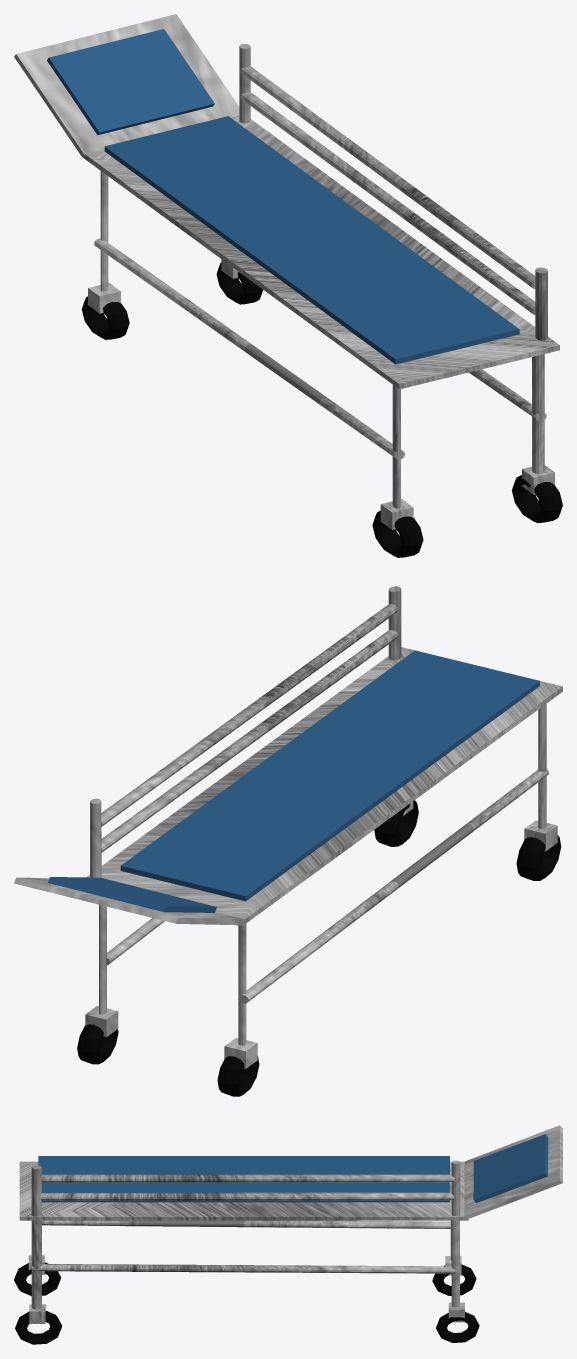
The model's file is barella_colorata.fbx.
3 renders of one model, top to bottom at view 1: azimuth 30°, elevation 25°; view 2: azimuth 150°, elevation 25°; view 3: azimuth 270°, elevation 25°, orthographic. The views are drawn at different scales.
Parts seen in each view (by area): view 1: Cube_8, Cube_6, Cube_9, Cube_7, Cylinder_9, Cylinder_8, Cylinder_5, Torus_2, Torus_3, Cylinder_2, Torus, Cylinder_3 (+5 smaller); view 2: Cube_8, Cube_6, Cylinder_8, Cylinder_9, Cylinder_5, Cube_9, Cube_7, Torus_3, Torus, Torus_1, Torus_2, Cylinder_3 (+7 smaller); view 3: Cube_8, Cube_6, Cylinder_9, Cylinder_8, Cylinder_4, Cube_9, Cylinder_5, Cube_7, Cylinder_2, Torus_2, Torus_1, Cylinder_1 (+5 smaller).
Part boxes in pixels (x1,y1,x2,y2): Cube_8: (104,116,519,364); Cube_6: (83,116,559,389); Cube_9: (47,29,214,135); Cube_7: (14,14,239,157); Cylinder_9: (240,66,535,288); Cylinder_8: (240,92,535,314); Cylinder_5: (94,238,405,459); Torus_2: (512,475,562,523); Torus_3: (372,510,423,557); Cylinder_2: (532,354,544,474); Torus: (81,296,129,339); Cylinder_3: (392,385,400,508); Cube_8: (120,650,539,901); Cube_6: (86,647,562,926); Cylinder_8: (101,630,398,852); Cylinder_9: (101,604,397,826); Cylinder_5: (238,769,548,1003); Cube_9: (48,877,216,912); Cube_7: (14,877,245,925); Torus_3: (516,835,561,880); Torus: (217,1056,259,1096); Torus_1: (77,1024,118,1064); Torus_2: (374,800,418,846); Cylinder_3: (538,704,546,828); Cube_8: (38,1156,449,1202); Cube_6: (19,1161,468,1220); Cylinder_9: (41,1174,454,1182); Cylinder_8: (41,1192,453,1200); Cylinder_4: (32,1264,455,1273); Cube_9: (473,1134,548,1202); Cylinder_5: (42,1220,450,1228); Cube_7: (464,1125,562,1218); Cylinder_2: (31,1220,41,1309); Torus_2: (15,1310,61,1344); Torus_1: (436,1312,479,1342); Cylinder_1: (451,1220,459,1307).
Bounding box in the file's own units: 0.1356 × 0.2015 × 0.5524.
Materials: 3 (1 with a texture image).
